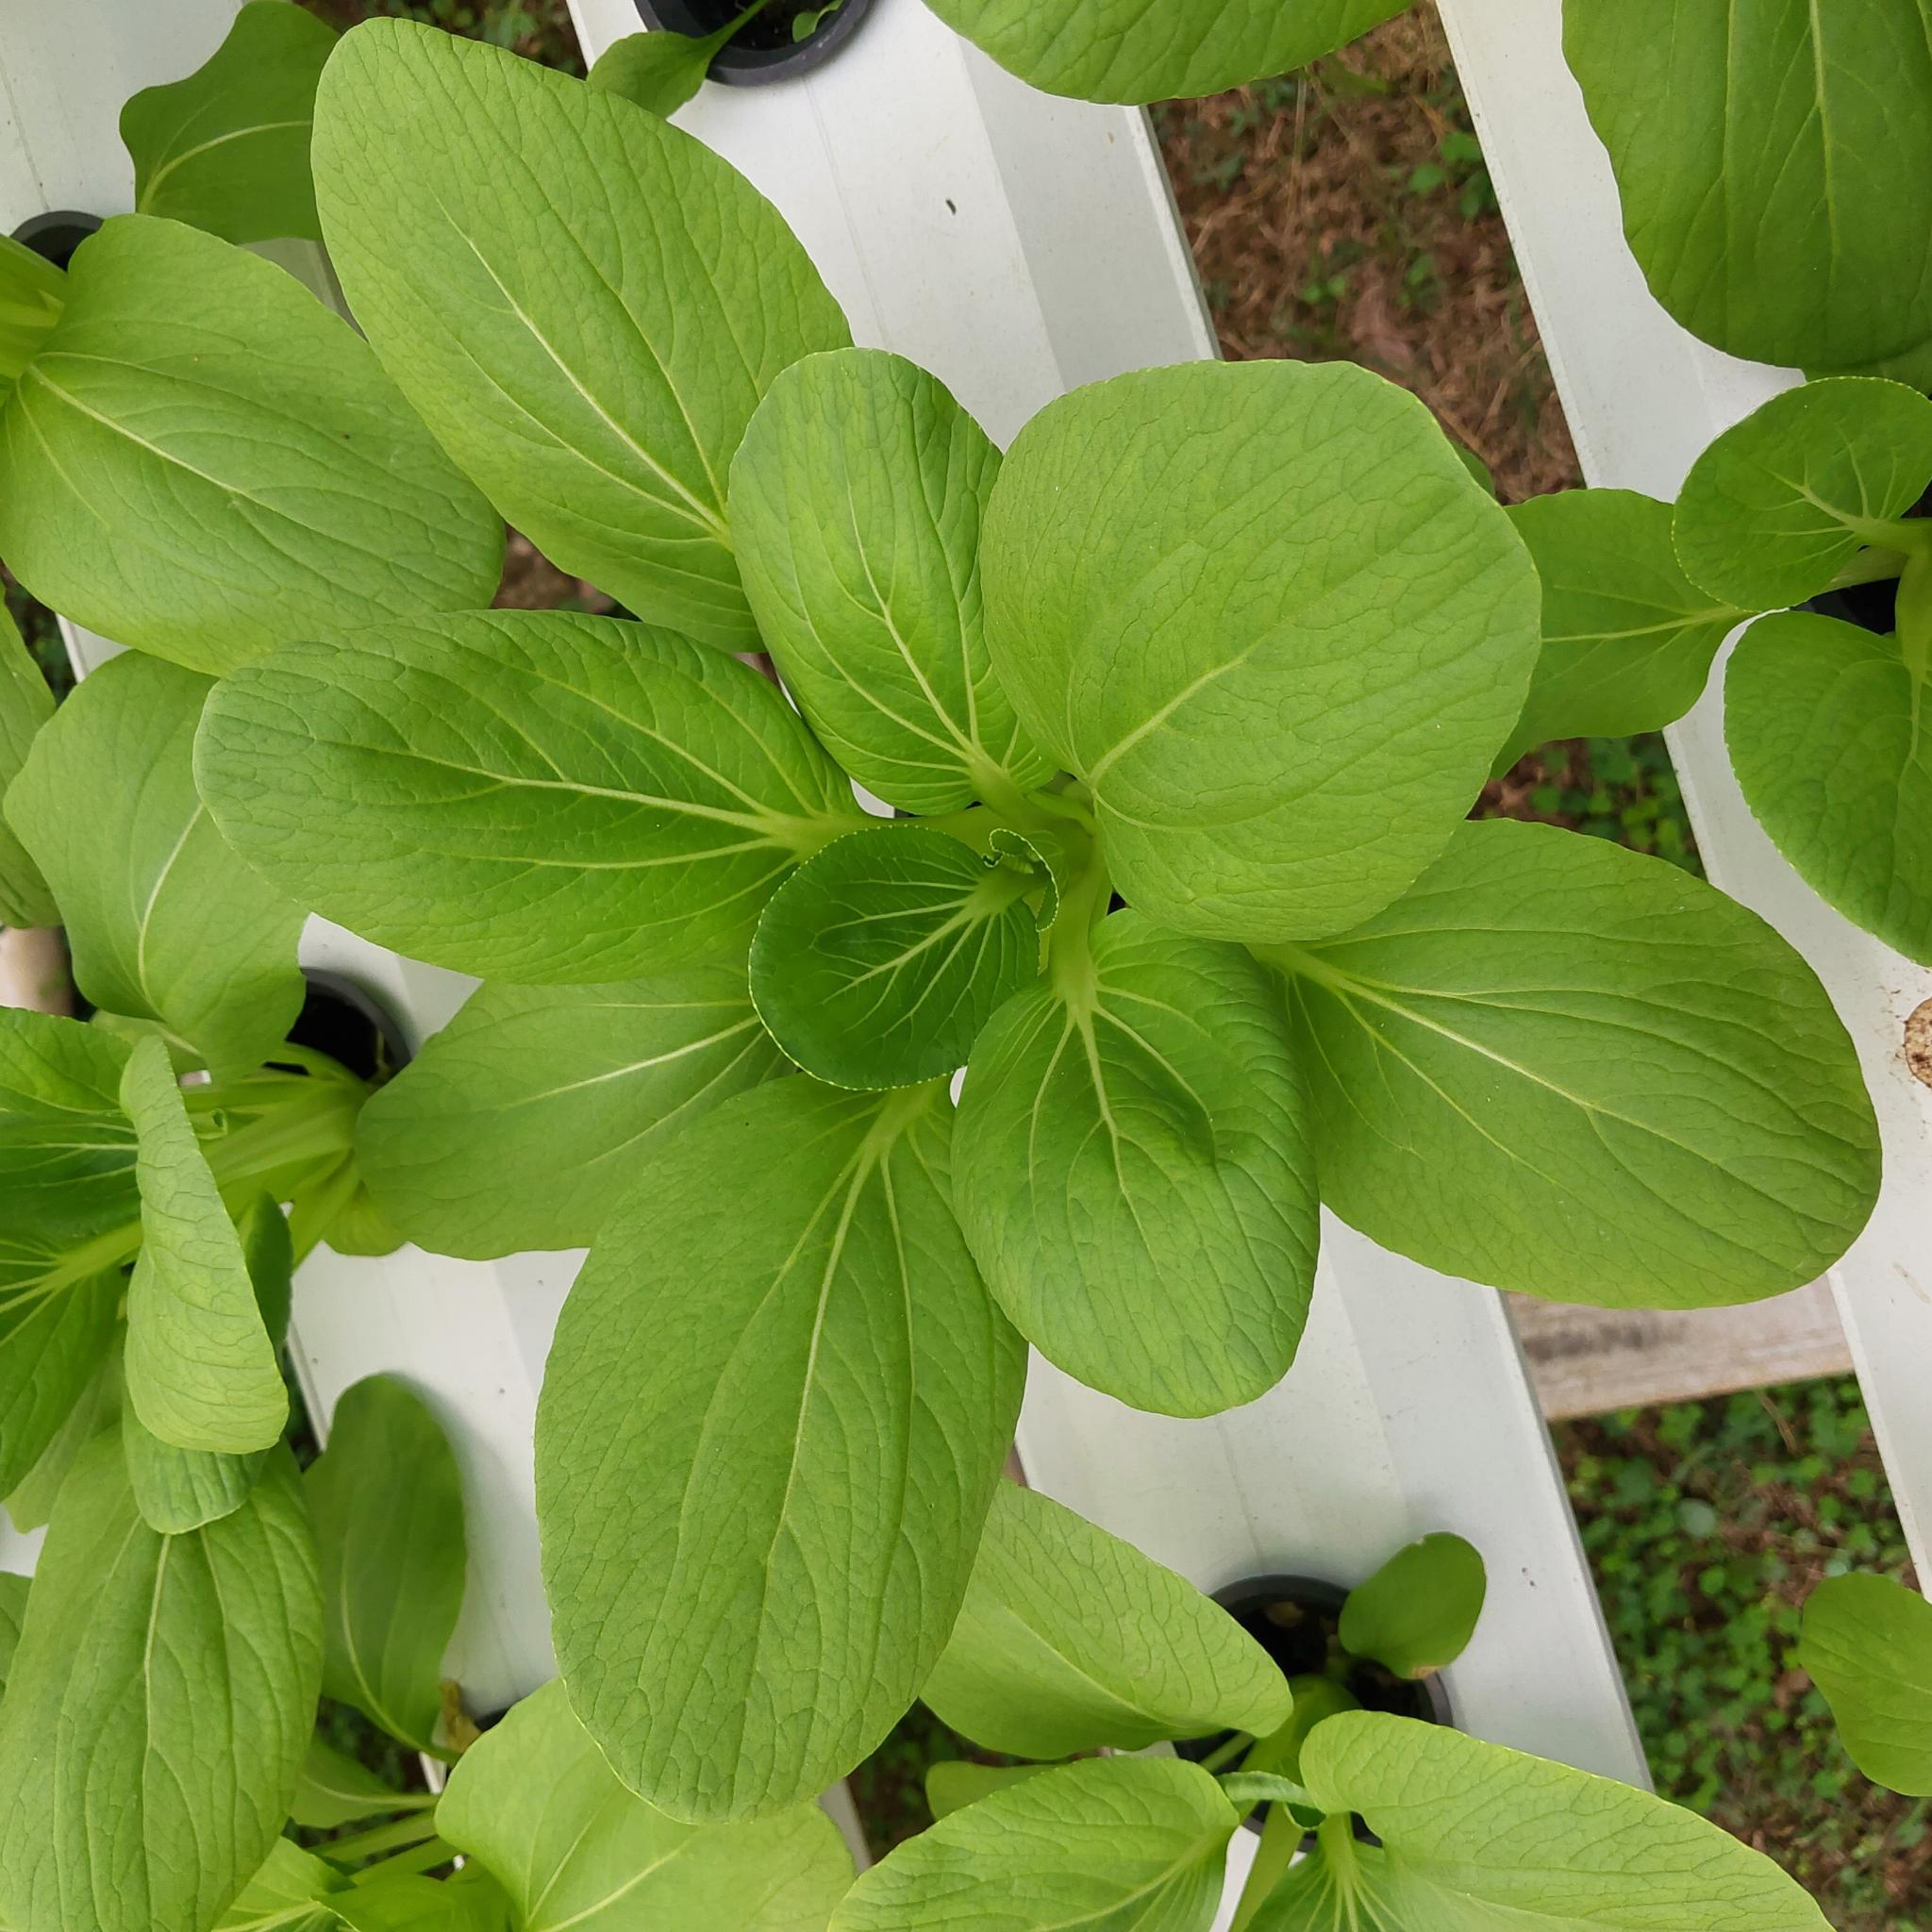Healthy-Pechay: (138, 0, 1932, 1882), (304, 12, 872, 655), (533, 1077, 957, 1838), (1024, 356, 1534, 938), (188, 619, 901, 996), (2, 209, 510, 697), (203, 1617, 879, 1921), (731, 338, 1026, 837), (1566, 7, 1932, 400), (9, 655, 356, 1051), (341, 971, 805, 1254), (1476, 495, 1767, 789), (0, 1422, 166, 1932), (113, 1037, 290, 1513), (4, 1016, 168, 1520), (301, 1368, 476, 1778), (1720, 614, 1925, 957), (1672, 377, 1932, 621), (113, 4, 364, 249), (179, 1447, 315, 1893), (1008, 2, 1454, 108), (1079, 623, 1279, 807), (1435, 129, 1483, 175), (1405, 161, 1447, 196)
